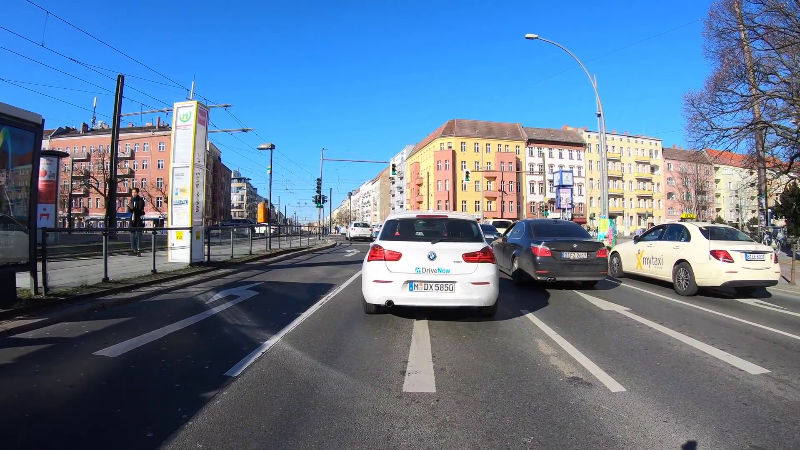Plate: (407, 280, 455, 291), (561, 250, 590, 261), (745, 251, 768, 263)
